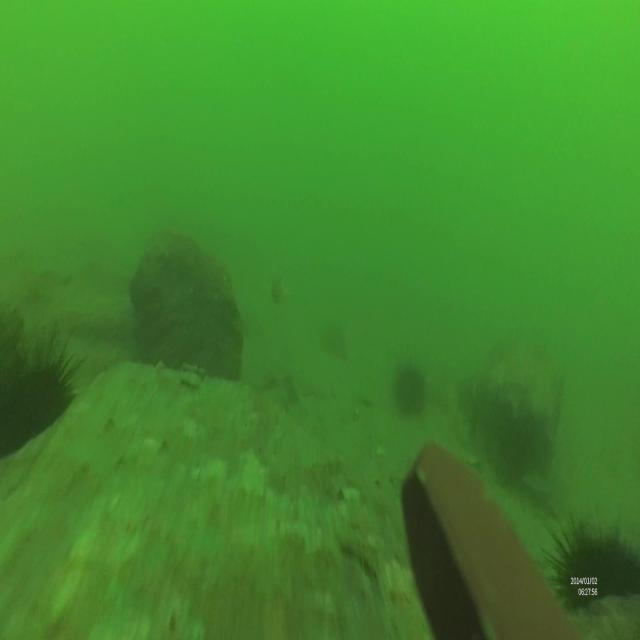echinus: (544, 504, 640, 625), (0, 328, 85, 462), (394, 361, 426, 422)
